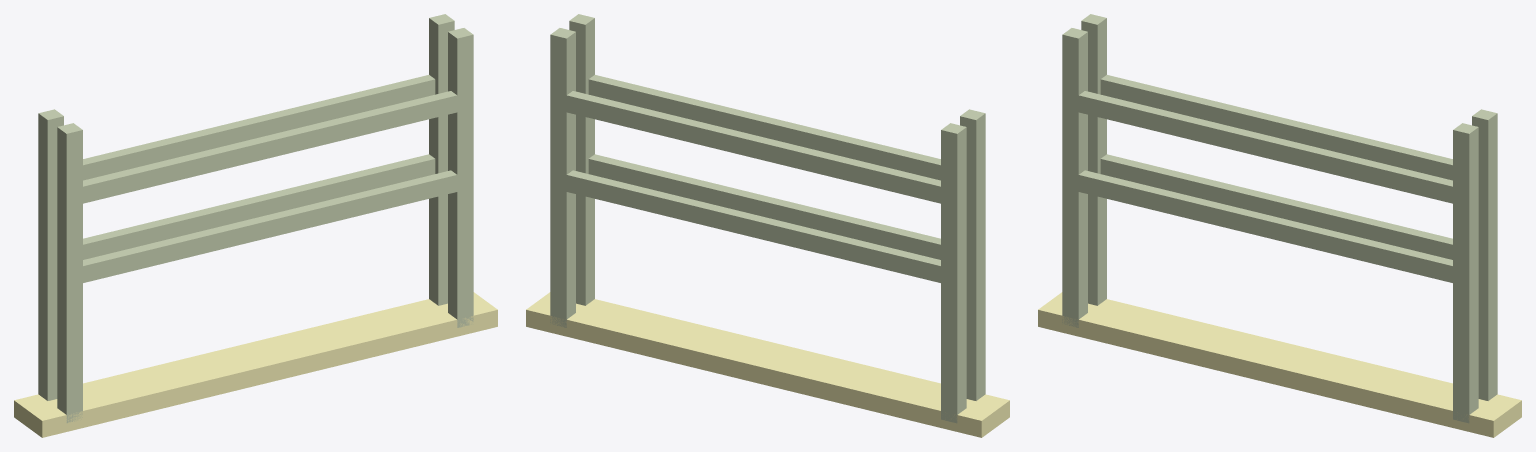
The model's file is furniture_queue_rail_module.glb.
3 views of the same model, side by side, from view 1: azimuth 30°, elevation 25°; view 2: azimuth 150°, elevation 25°; view 3: azimuth 330°, elevation 25° (orthographic).
Parts seen in each view (by area): view 1: pad, rail_upper_front, rail_mid_front, rail_upper_back, rail_mid_back, post_front_left, post_front_right, post_back_left, post_back_right; view 2: pad, rail_upper_back, rail_mid_back, rail_upper_front, rail_mid_front, post_back_left, post_back_right, post_front_left, post_front_right; view 3: pad, rail_upper_front, rail_mid_front, rail_upper_back, rail_mid_back, post_front_right, post_front_left, post_back_right, post_back_left.
Boxes of the visible parts, x1,y1,x2,y2 form: pad: (14,292,497,437); rail_upper_front: (75,91,465,204); rail_mid_front: (74,170,465,284); rail_upper_back: (83,75,435,180); rail_mid_back: (83,154,435,259); post_front_left: (57,123,82,423); post_front_right: (448,28,473,327); post_back_left: (38,109,63,400); post_back_right: (429,14,454,305); pad: (526,292,1009,437); rail_upper_back: (558,91,949,205); rail_mid_back: (558,170,949,284); rail_upper_front: (588,75,940,180); rail_mid_front: (588,154,940,259); post_back_left: (941,123,966,423); post_back_right: (550,28,575,327); post_front_left: (960,109,985,400); post_front_right: (569,14,594,305); pad: (1038,292,1521,437); rail_upper_front: (1070,91,1461,205); rail_mid_front: (1070,170,1461,284); rail_upper_back: (1100,75,1452,180); rail_mid_back: (1100,154,1452,259); post_front_right: (1453,123,1478,423); post_front_left: (1062,28,1087,327); post_back_right: (1472,109,1497,400); post_back_left: (1081,14,1106,305).
Size of the model in its own units: 1.68 by 1.05 by 0.18.
